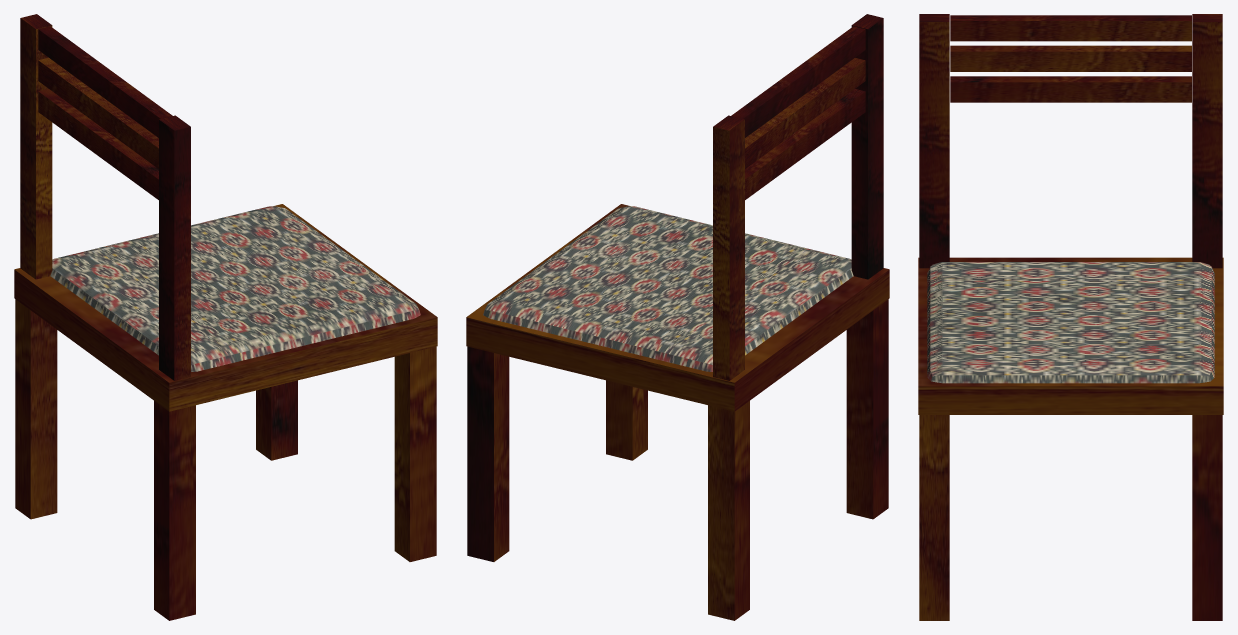
File: стул2.fbx
3 renders of one model, left to right at view 1: azimuth 30°, elevation 25°; view 2: azimuth 150°, elevation 25°; view 3: azimuth 270°, elevation 25°, orthographic.
Parts seen in each view (by area): view 1: стул1; view 2: стул1; view 3: стул1.
Part boxes in pixels (x1=…): стул1: x1=14, y1=14, x2=437, y2=620; стул1: x1=466, y1=14, x2=889, y2=620; стул1: x1=918, y1=14, x2=1223, y2=620.
Bounding box in the file's own units: 52.99 × 92.19 × 52.99.
2 materials, 2 textured.
